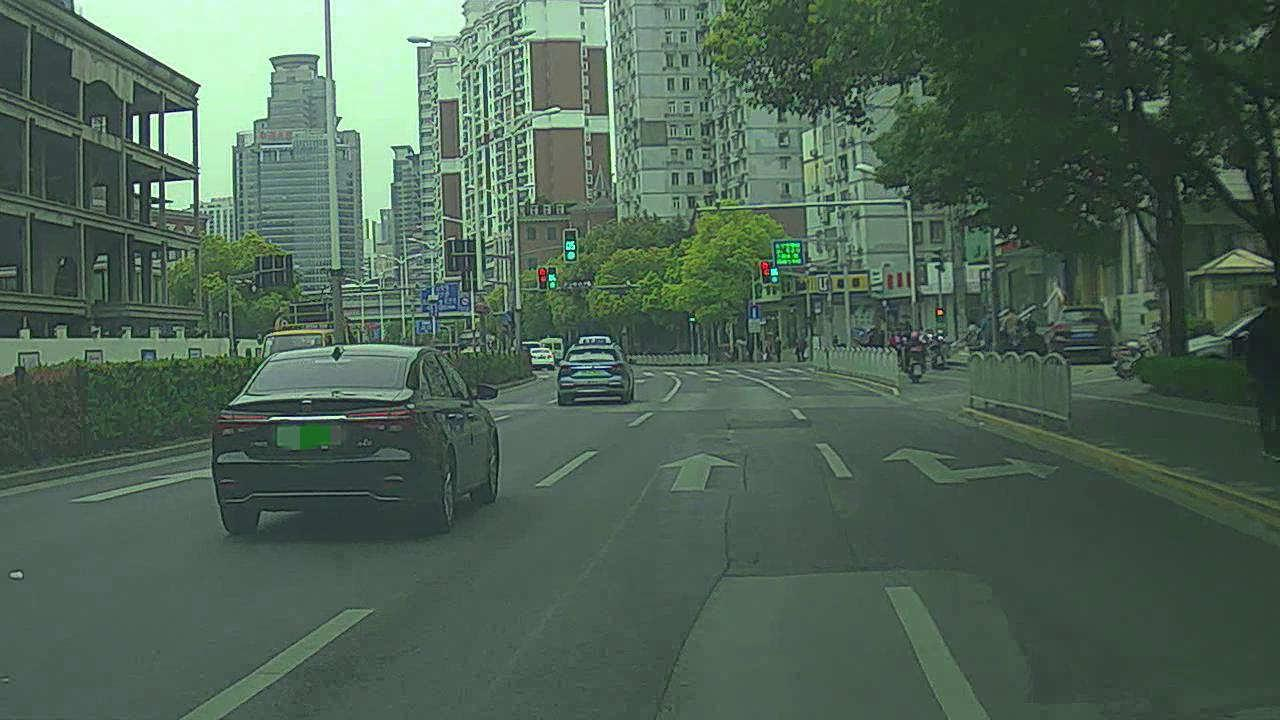traffic_light: (564, 229, 580, 265), (546, 267, 558, 290), (761, 262, 771, 285), (537, 268, 546, 292), (772, 263, 779, 286)
